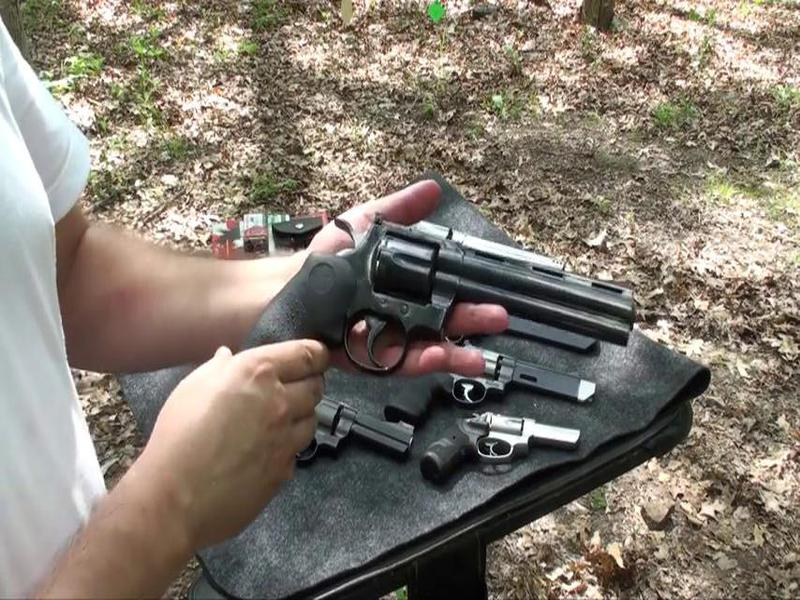Revolver: (253, 204, 648, 379)
